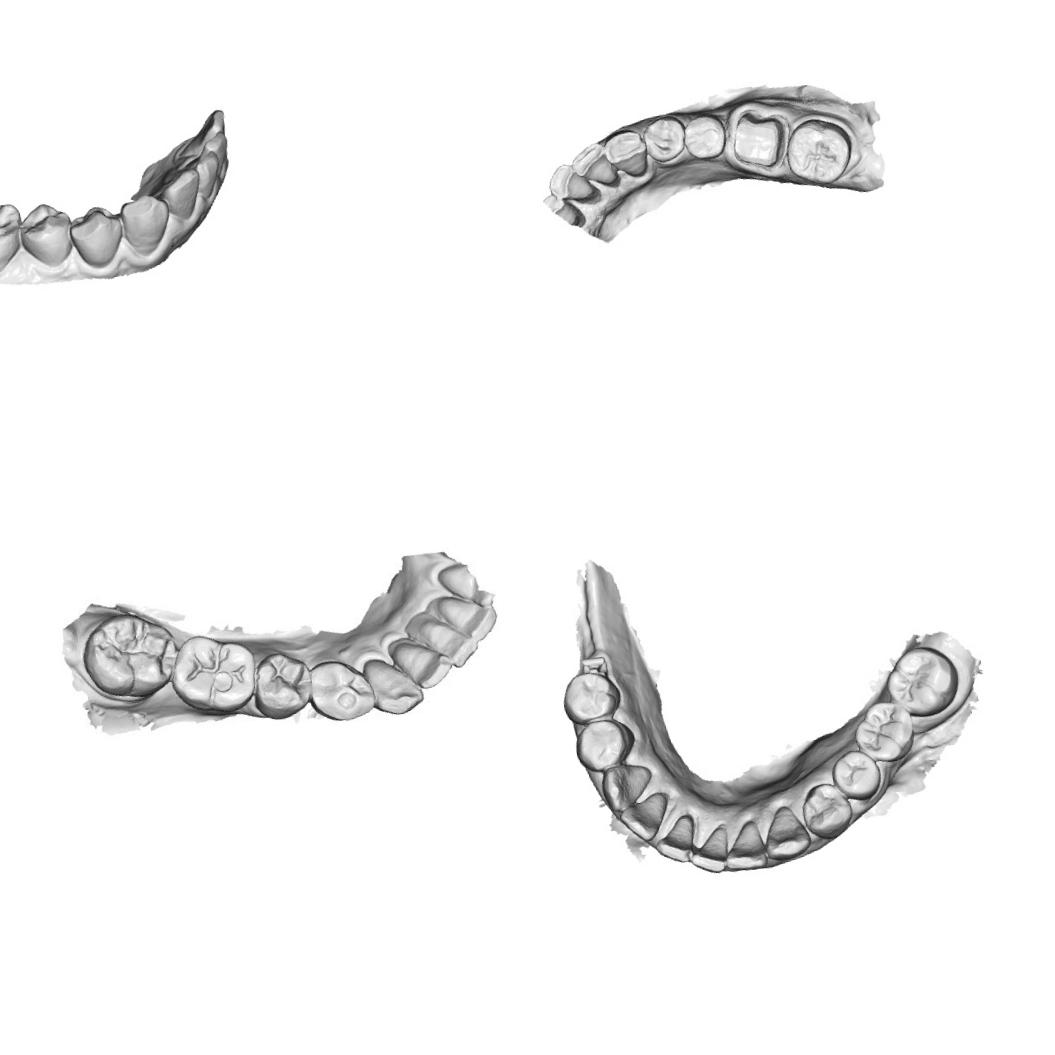canine: (359, 652, 422, 718), (116, 190, 174, 260), (596, 757, 659, 814), (760, 802, 813, 865), (600, 124, 652, 182)
crown: (726, 103, 794, 176)
incisor: (386, 632, 452, 695), (416, 609, 476, 667), (436, 588, 497, 641), (153, 164, 205, 225), (170, 107, 231, 157), (617, 789, 672, 844), (652, 812, 702, 868), (720, 820, 769, 876), (568, 139, 620, 191), (544, 158, 597, 206), (688, 824, 734, 878), (182, 150, 224, 203), (200, 128, 232, 178)
molar: (83, 612, 174, 696), (170, 630, 254, 712), (880, 640, 963, 720), (780, 112, 858, 192), (848, 697, 917, 766), (0, 191, 29, 283)
premolar: (14, 198, 78, 272), (64, 202, 128, 274), (569, 712, 641, 774), (558, 666, 625, 728), (796, 778, 855, 839), (310, 662, 370, 720), (254, 650, 308, 713), (829, 748, 884, 805), (680, 109, 730, 164), (640, 111, 689, 166)
